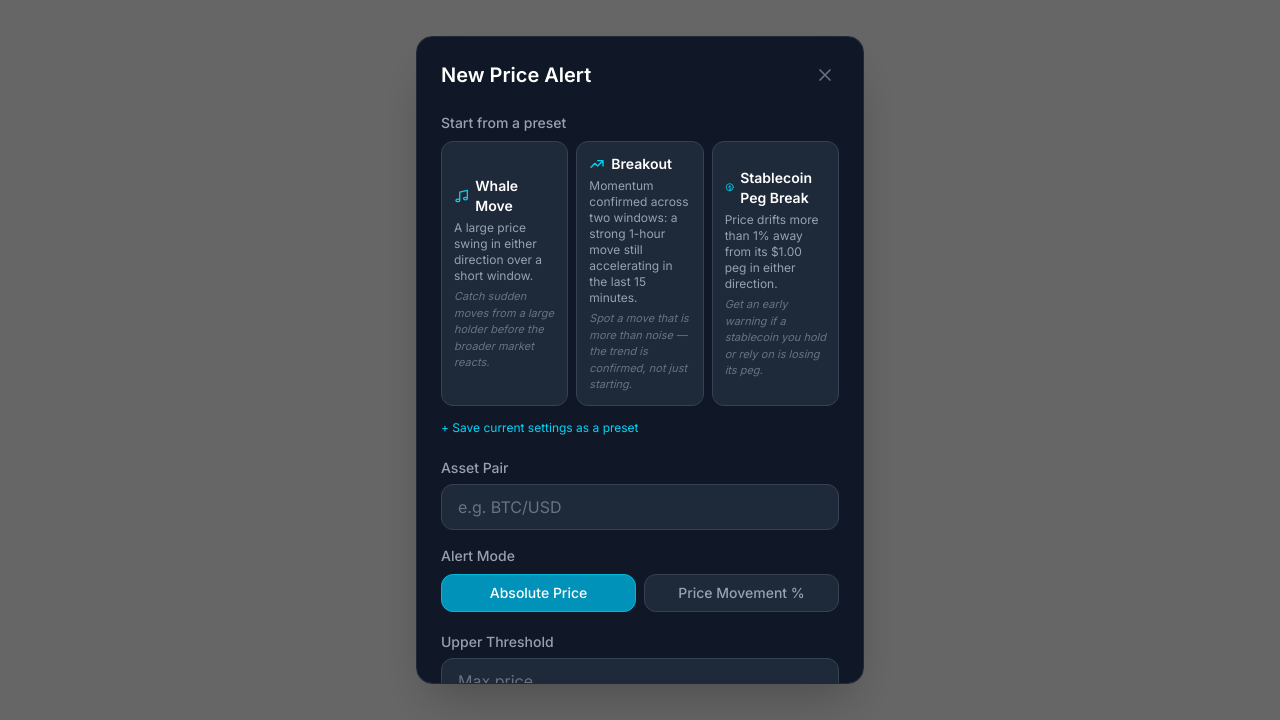
Test case: AlertModal › shows validation error when upper <= lower
In the field labelled "Asset Pair": x=640, y=506 [441,484,839,530], type "BTC/USD"
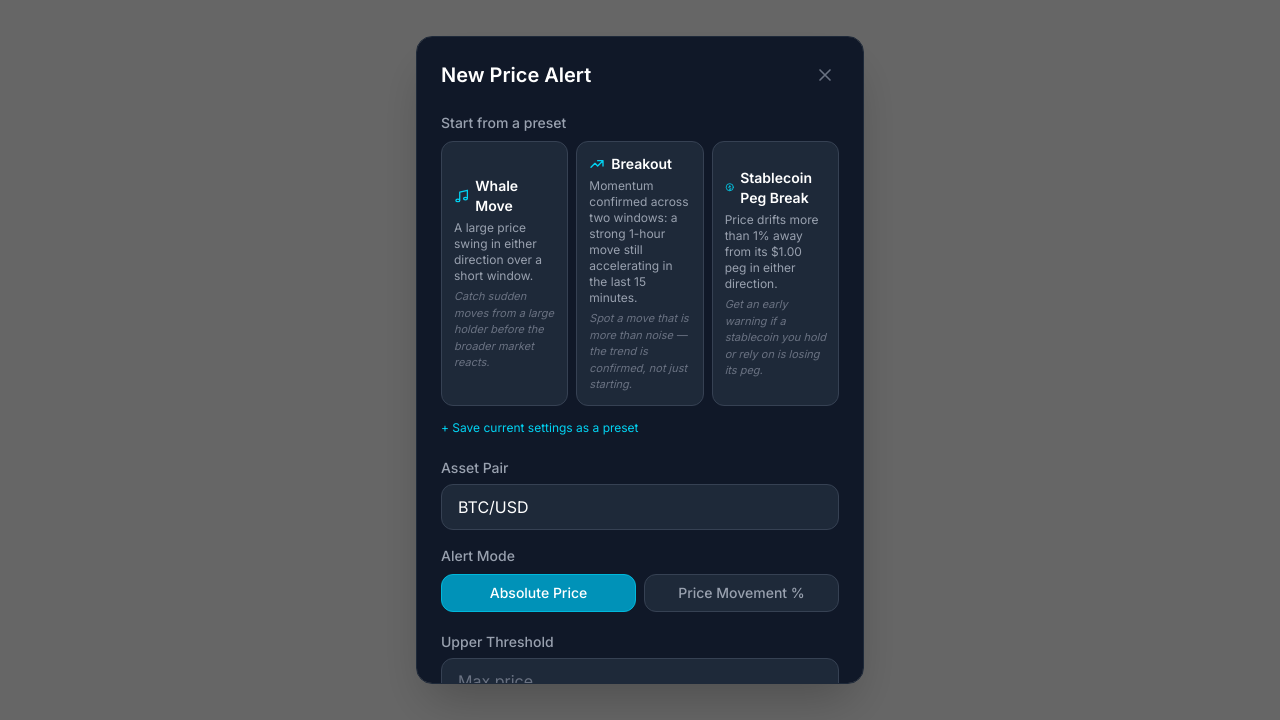
In the number field labelled "Upper Threshold": x=640, y=680 [441,658,839,704], type "100"
(page scrolled)
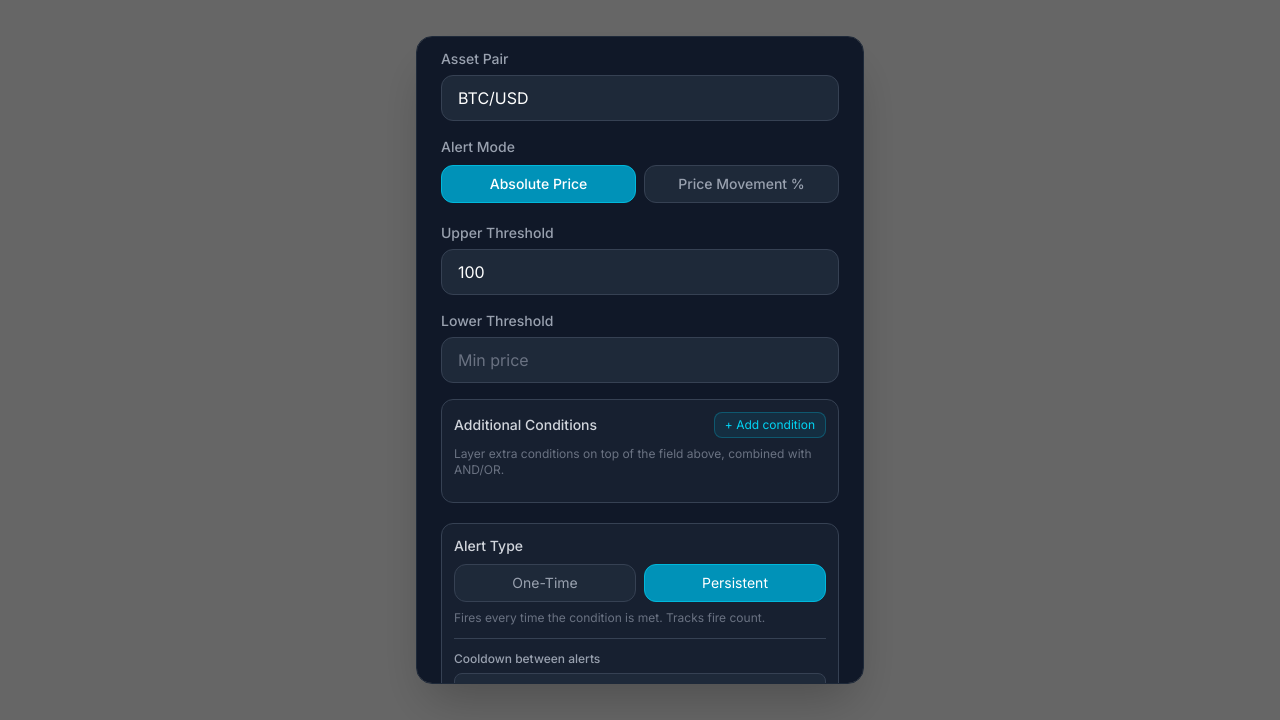
In the number field labelled "Lower Threshold": x=640, y=360 [441,336,839,382], type "200"
(page scrolled)
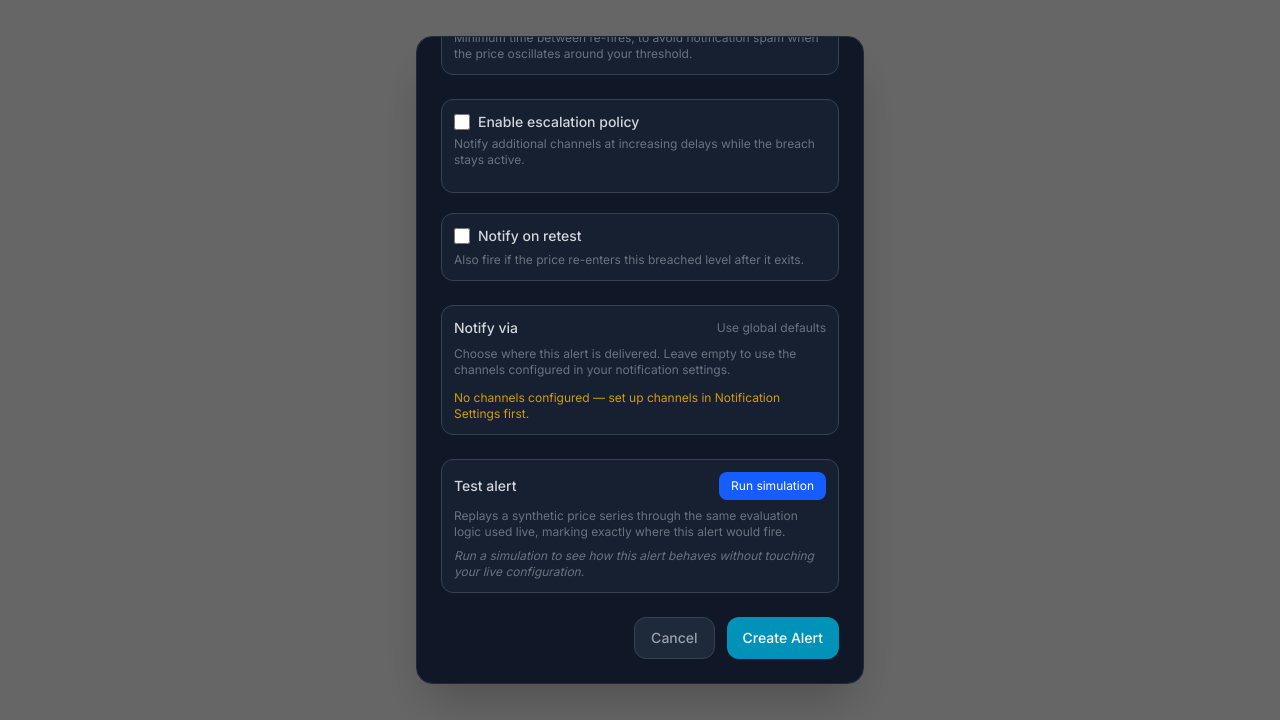
Click the button "Create Alert": x=783, y=638 [727,616,839,658]
(page scrolled)
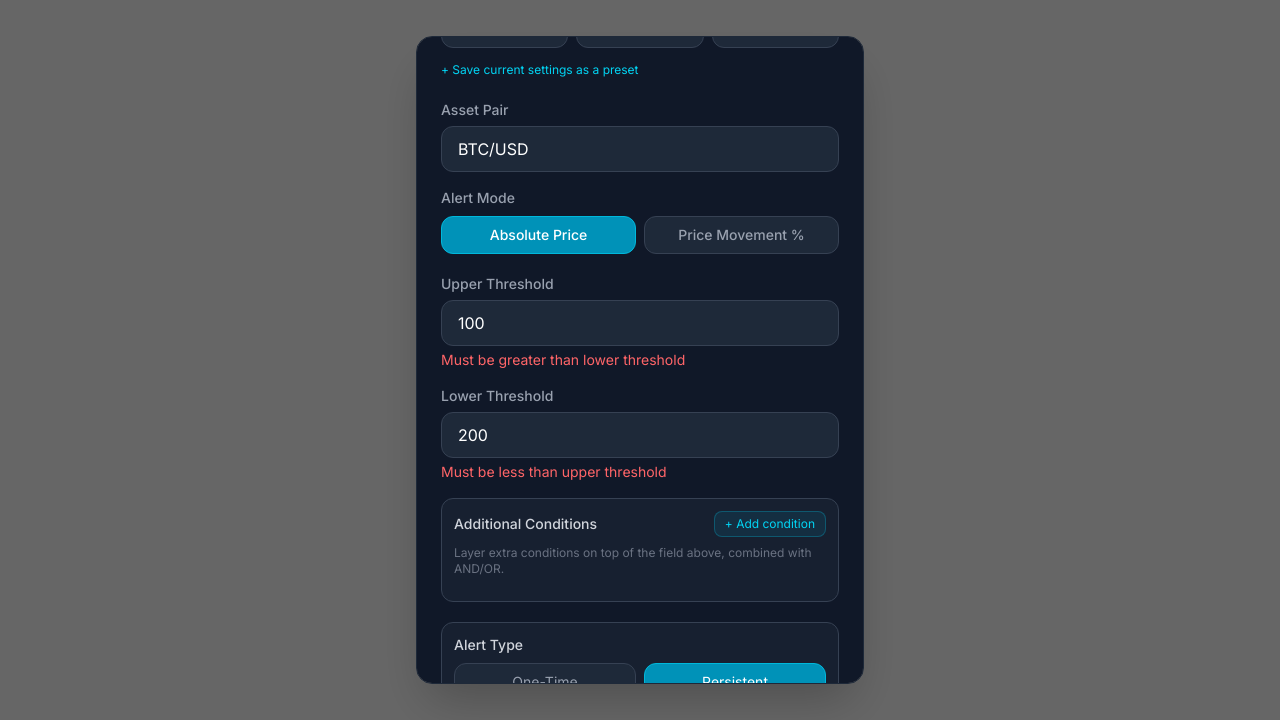
Expected: the message "Must be greater than lower threshold" is shown, [441,350,685,368]
